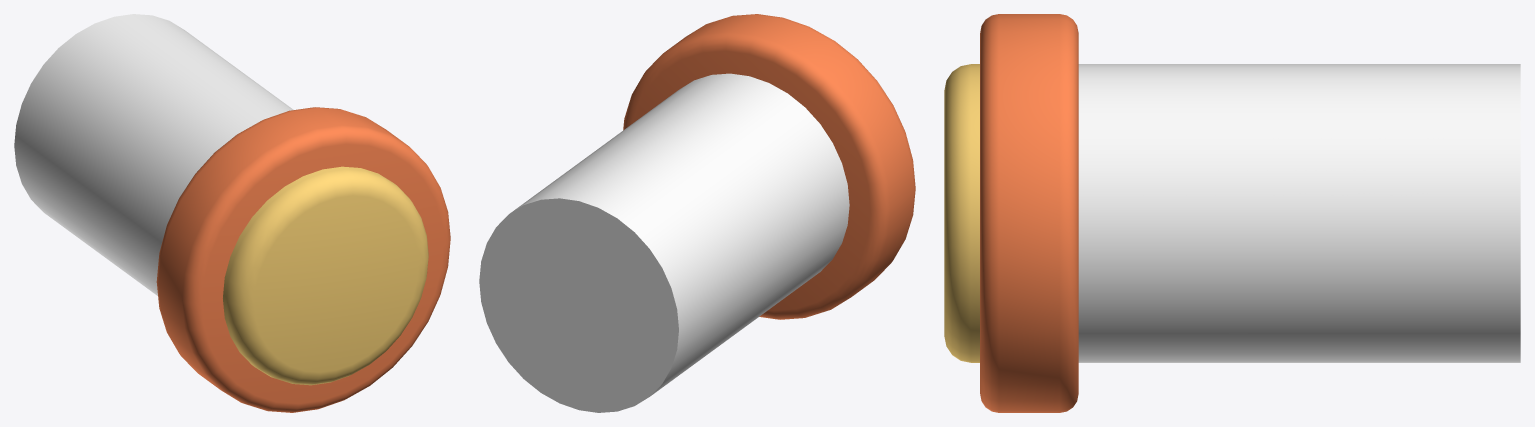
The model's file is obstacle.fbx.
The picture shows the model from 3 angles, left to right: view 1: azimuth 30°, elevation 25°; view 2: azimuth 150°, elevation 25°; view 3: azimuth 270°, elevation 25°; orthographic projection. The views are drawn at different scales.
Parts seen in each view (by area): view 1: Cylinder.011; view 2: Cylinder.011; view 3: Cylinder.011.
Part boxes in pixels (x1,y1,x2,y2): Cylinder.011: (14,14,450,412); Cylinder.011: (479,14,915,412); Cylinder.011: (944,14,1520,412).
Bounding box in the file's own units: 2.29 × 2.29 × 3.31.
